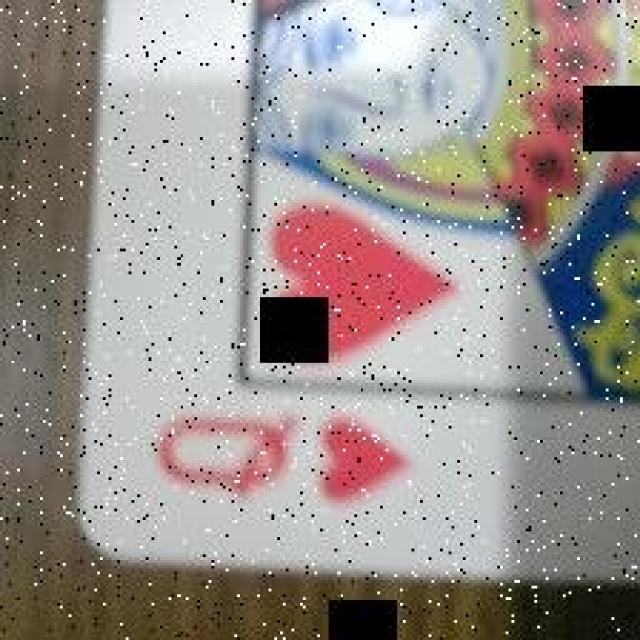Queen of hearts: (80, 1, 639, 579)
